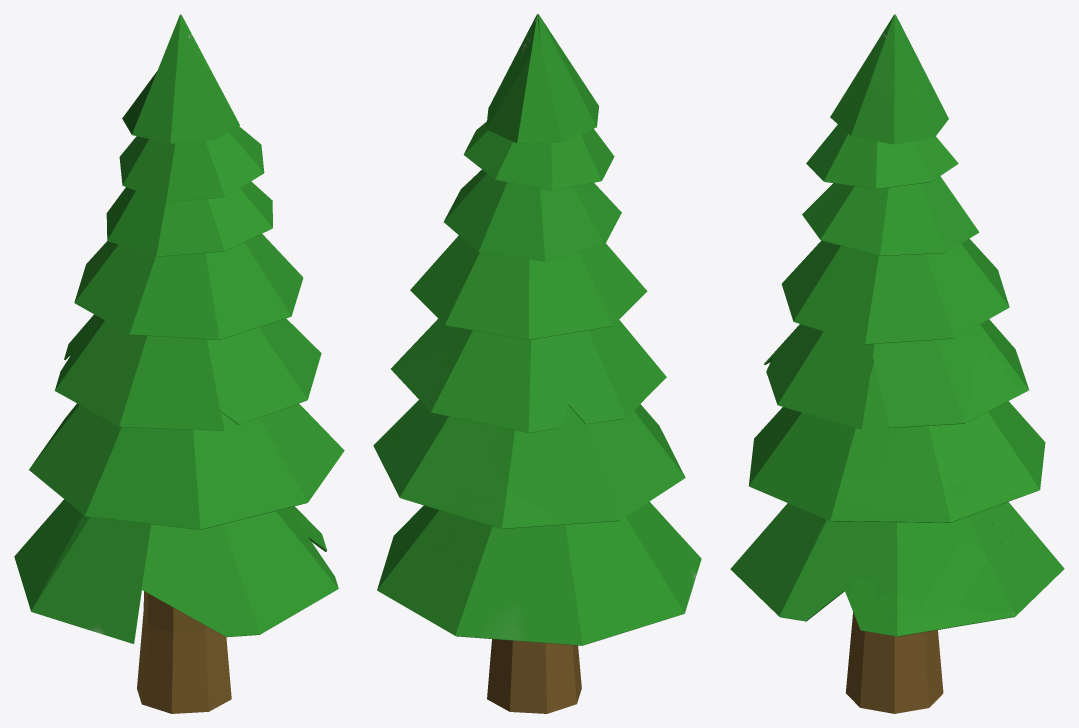
The model's file is Pine Tree (Animated).fbx.
3 views of the same model, side by side, from view 1: azimuth 30°, elevation 25°; view 2: azimuth 150°, elevation 25°; view 3: azimuth 270°, elevation 25° (orthographic).
Parts seen in each view (by area): view 1: Cylinder; view 2: Cylinder; view 3: Cylinder.
Part boxes in pixels (x1=…): Cylinder: x1=14, y1=14, x2=344, y2=713; Cylinder: x1=373, y1=14, x2=701, y2=713; Cylinder: x1=730, y1=14, x2=1064, y2=713.
Bounding box in the file's own units: 500 × 1117 × 500.
